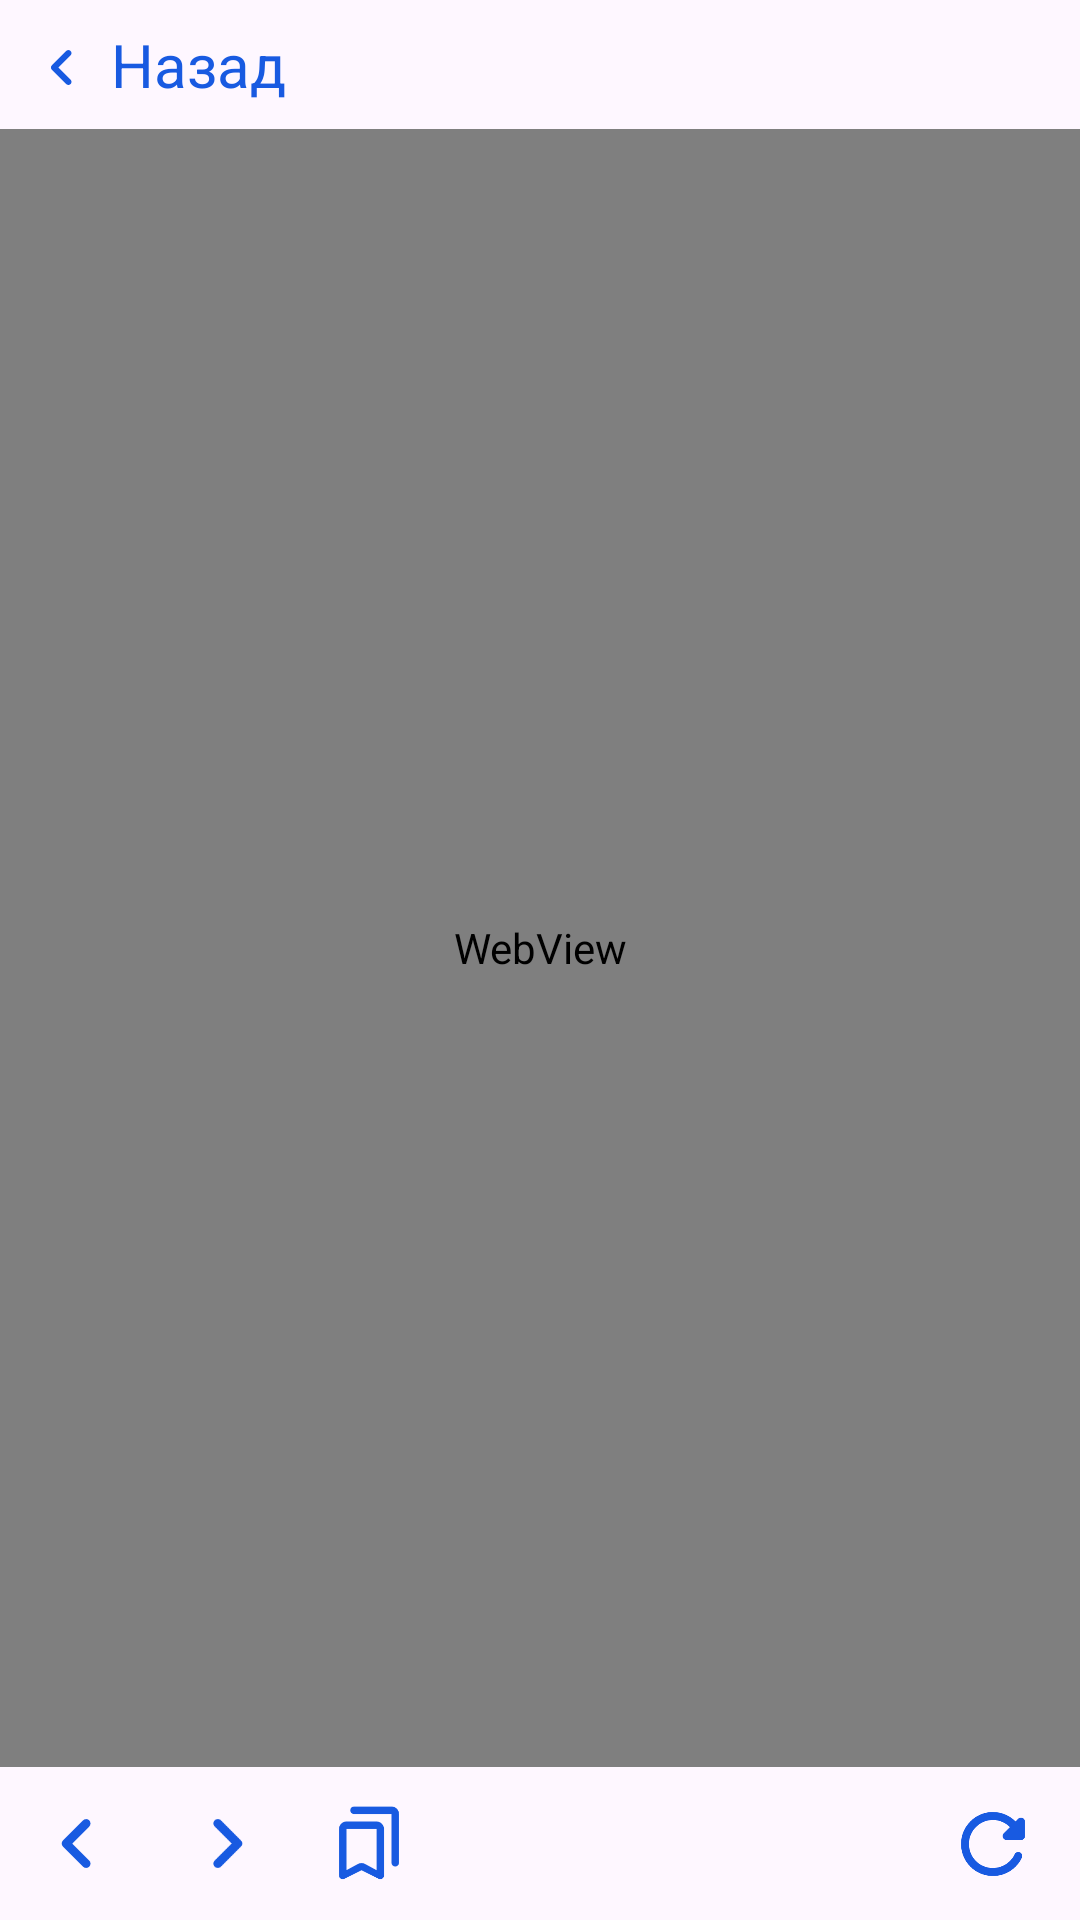

Screen size 1080x1920. Icon name, then its center in pixels as (x,y):
Вперёд: (228,1843)
Закладки: (369,1842)
Перезагрузить: (993,1844)
